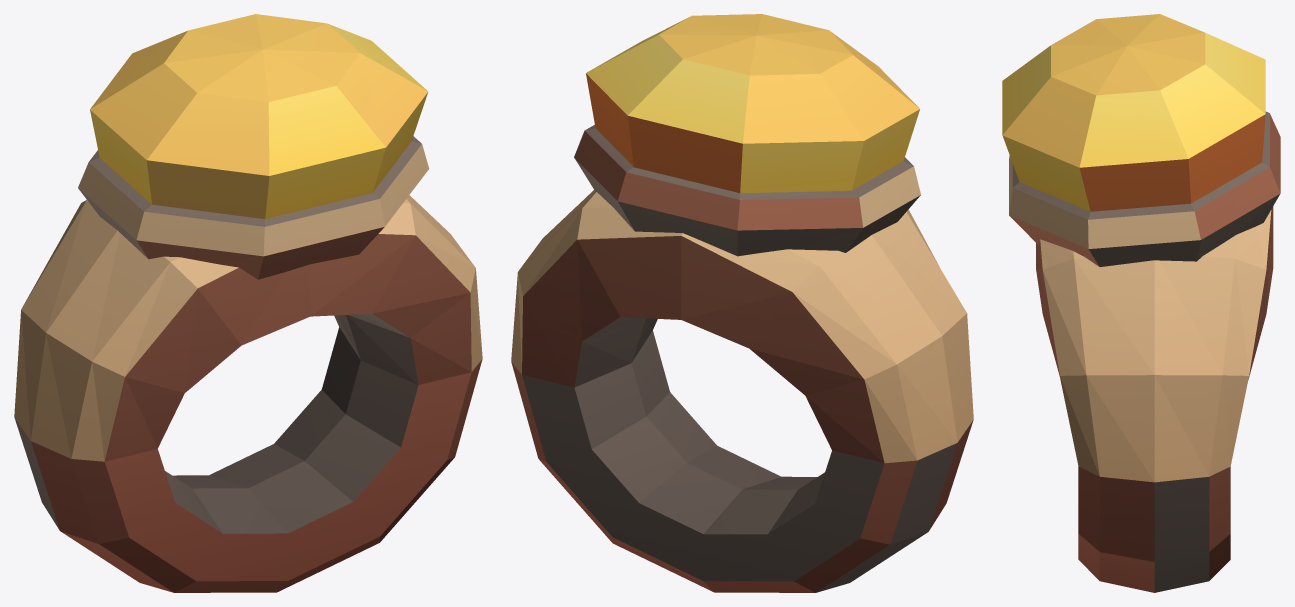
The model's file is source.glb.
3 renders of one model, left to right at view 1: azimuth 30°, elevation 25°; view 2: azimuth 150°, elevation 25°; view 3: azimuth 270°, elevation 25°, orthographic. The views are drawn at different scales.
Parts seen in each view (by area): view 1: model; view 2: model; view 3: model.
Boxes of the visible parts, bbox=[...] form: model: bbox=[14, 14, 482, 592]; model: bbox=[511, 14, 973, 592]; model: bbox=[1002, 14, 1280, 592].
Size of the model in its own units: 0.52 by 0.62 by 0.3.
Materials: 1 (1 with a texture image).
